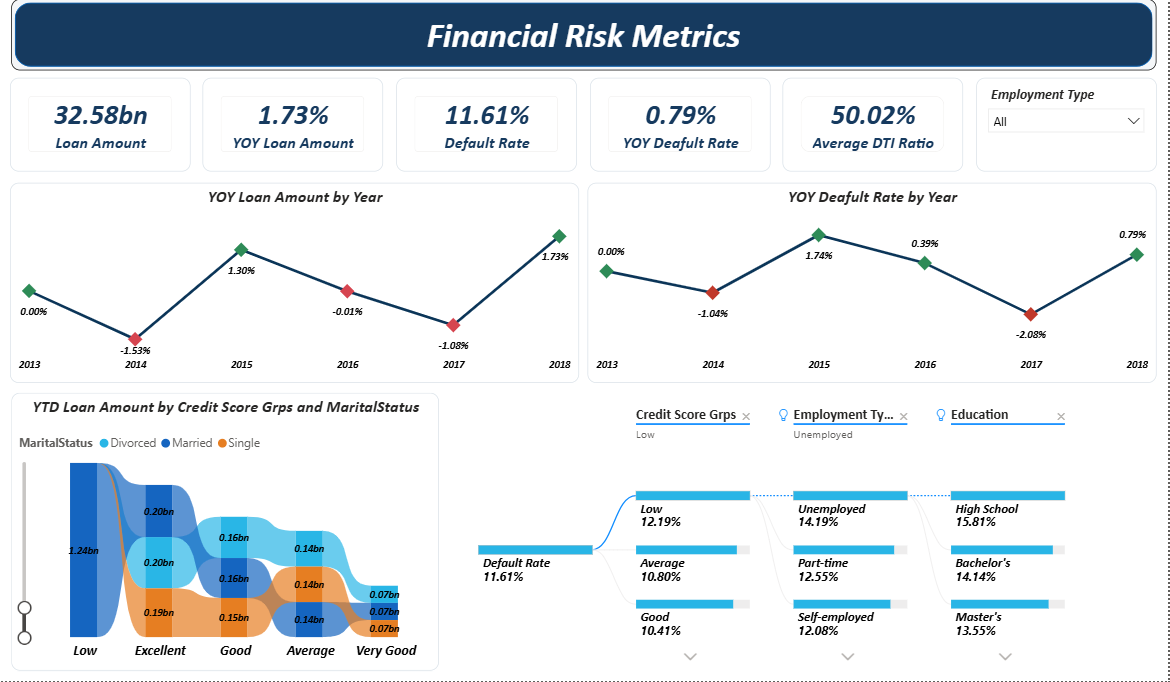

The page's visual inventory and layout, read from the dashboard file:
{"tool":"powerbi","page":{"name":"Financial Risk Metrics","canvas":[1334,780],"ordinal":2},"visuals":[{"type":"shape","box":[12.9,0,1308.6,81.4],"z":0},{"type":"lineChart","fields":{"Category":["Loan_default.Year"],"Y":["Measure Table3.YOY"]},"box":[11,209.6,650,228.8],"z":1},{"type":"cardVisual","fields":{"Data":["Measure Table 1.Default Rate"]},"box":[441.1,90.4,200,106.8],"z":3},{"type":"cardVisual","fields":{"Data":["Measure Table3.YOY Deafult Rate"]},"box":[656.2,90.4,200,106.8],"z":4},{"type":"cardVisual","fields":{"Data":["Measure Table2.Average DTI Ratio"]},"box":[871.2,90.4,200,106.8],"z":5},{"type":"cardVisual","fields":{"Data":["Measure Table3.YOY Loan Amount"]},"box":[226,90.4,200,106.8],"z":7},{"type":"cardVisual","fields":{"Data":["Measure Table 1.Loan Amount"]},"box":[11,90.4,200,106.8],"z":9},{"type":"ribbonChart","fields":{"Category":["Loan_default.Credit Score Grps"],"Series":["Loan_default.MaritalStatus"],"Y":["Measure Table3.YTD Loan Amount"]},"box":[12.3,450.7,489,317.8],"z":10},{"type":"decompositionTreeVisual","fields":{"Analyze":["Measure Table 1.Default Rate"],"ExplainBy":["Loan_default.Credit Score Grps","Loan_default.Employment Type","Loan_default.Education"]},"box":[517.8,450.7,804.1,317.8],"z":11},{"type":"slicer","fields":{"Values":["Loan_default.Employment Type"]},"box":[1086.3,90.4,235.6,106.8],"z":12},{"type":"lineChart","fields":{"Category":["Loan_default.Year"],"Y":["Measure Table3.YOY Deafult Rate"]},"box":[671.4,210,650,229],"z":13}]}

Visuals, with their boxes in screenshot pixels (x1, y1, x2, y2), scaled from the page's 1334x780 canvas onto the 1170x682 screenshot:
shape: x1=11 y1=0 x2=1159 y2=71
lineChart - Loan_default.Year x Measure Table3.YOY: x1=10 y1=183 x2=580 y2=383
cardVisual - Measure Table 1.Default Rate: x1=387 y1=79 x2=562 y2=172
cardVisual - Measure Table3.YOY Deafult Rate: x1=576 y1=79 x2=751 y2=172
cardVisual - Measure Table2.Average DTI Ratio: x1=764 y1=79 x2=940 y2=172
cardVisual - Measure Table3.YOY Loan Amount: x1=198 y1=79 x2=374 y2=172
cardVisual - Measure Table 1.Loan Amount: x1=10 y1=79 x2=185 y2=172
ribbonChart - Loan_default.Credit Score Grps x Loan_default.MaritalStatus: x1=11 y1=394 x2=440 y2=672
decompositionTreeVisual - Measure Table 1.Default Rate x Loan_default.Credit Score Grps: x1=454 y1=394 x2=1159 y2=672
slicer - Loan_default.Employment Type: x1=953 y1=79 x2=1159 y2=172
lineChart - Loan_default.Year x Measure Table3.YOY Deafult Rate: x1=589 y1=184 x2=1159 y2=384
